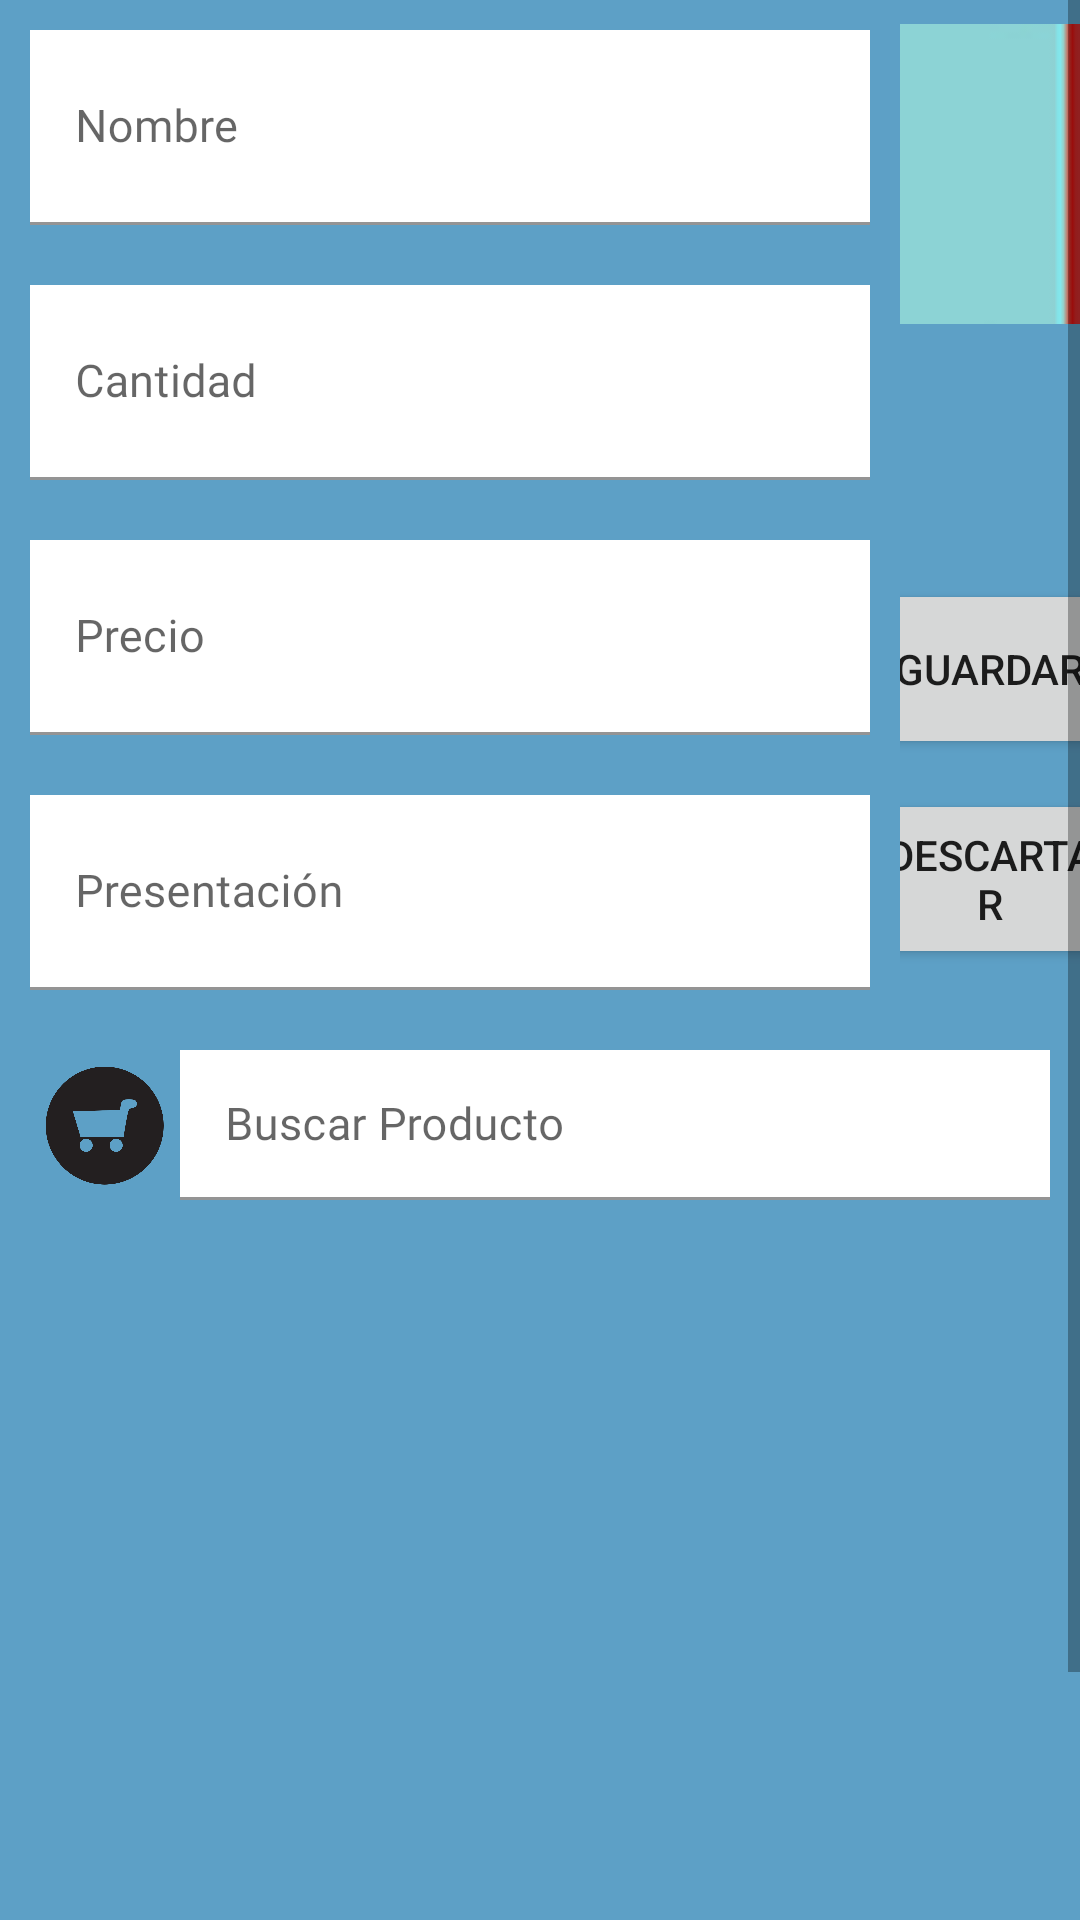

Screen size 1080px x 1920px. Icon name, then its box in pixels as [left=x1, top=y1, right=x2, bottom=y2]:
shopcart: [left=46, top=1067, right=164, bottom=1185]
